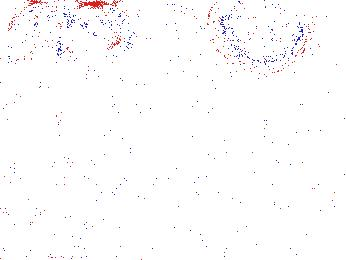moon jellyfish: (208, 1, 316, 75), (126, 5, 222, 56), (59, 2, 131, 61), (5, 1, 70, 64)
